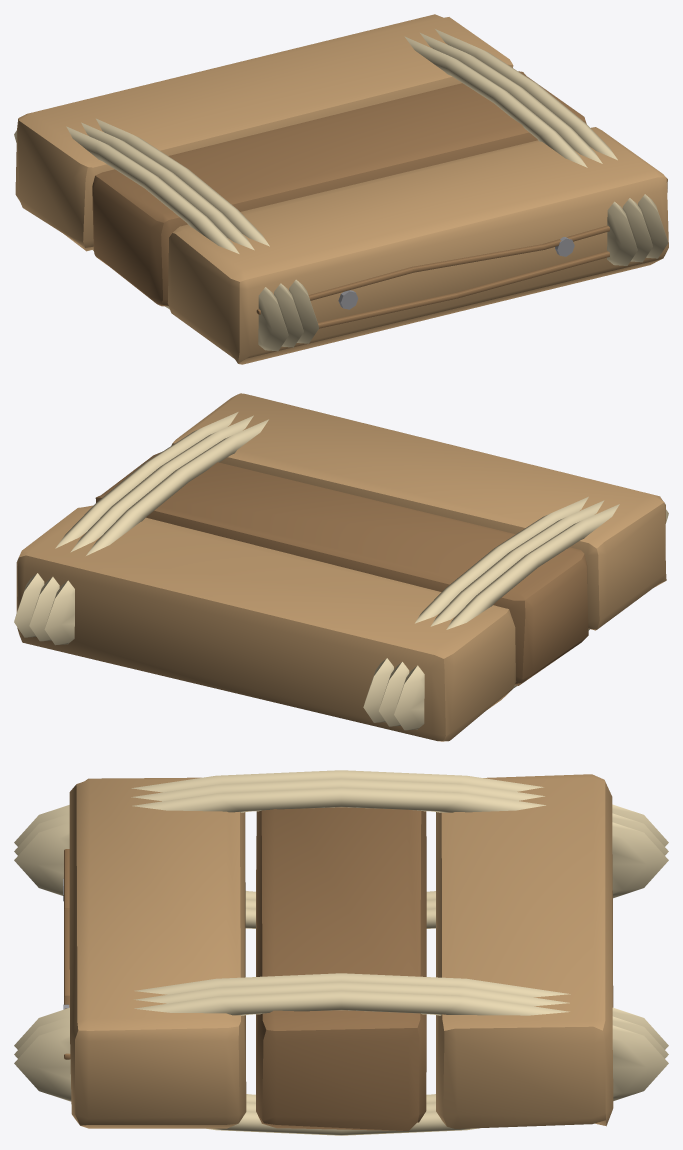
The model's file is tile_platform.glb.
3 renders of one model, top to bottom at view 1: azimuth 30°, elevation 25°; view 2: azimuth 150°, elevation 25°; view 3: azimuth 270°, elevation 25°, orthographic. The views are drawn at different scales.
Parts seen in each view (by area): view 1: tile_platform; view 2: tile_platform; view 3: tile_platform.
Boxes of the visible parts, x1,y1,x2,y2 form: tile_platform: (14,14,668,364); tile_platform: (14,393,668,741); tile_platform: (14,770,668,1135).
Bounding box in the file's own units: 1.01 × 0.266 × 1.09.
